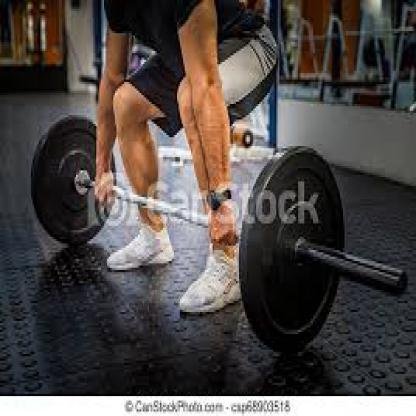Barbell: (233, 141, 413, 370)
